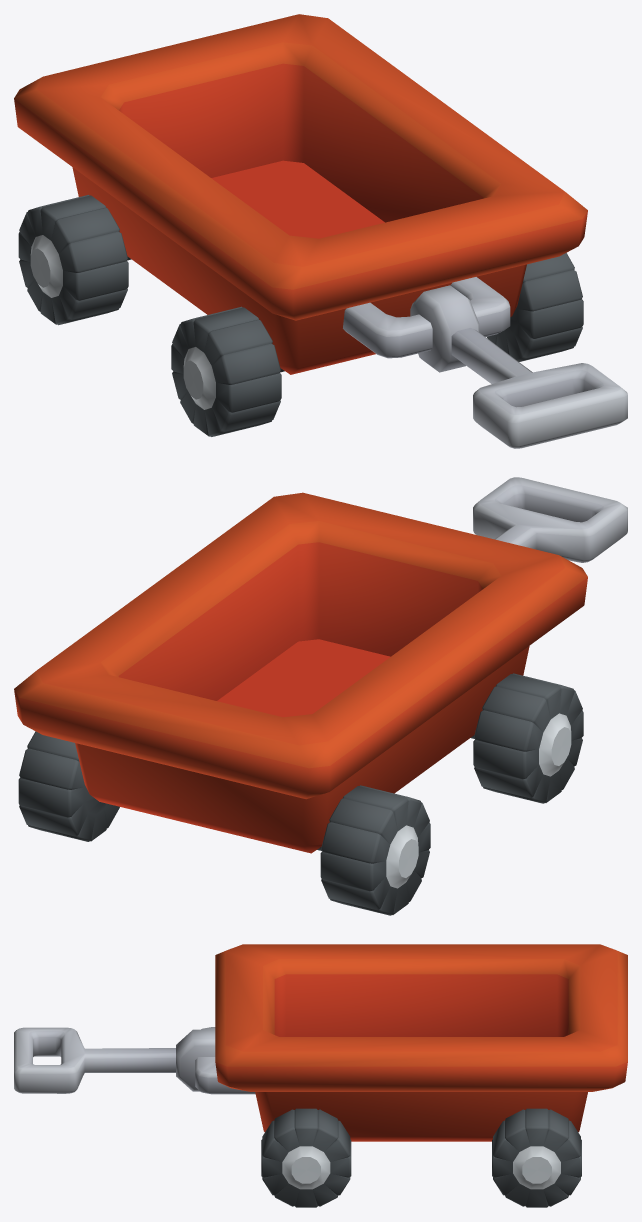
The model's file is cart.glb.
The picture shows the model from 3 angles, top to bottom: view 1: azimuth 30°, elevation 25°; view 2: azimuth 150°, elevation 25°; view 3: azimuth 270°, elevation 25°; orthographic projection. The views are drawn at different scales.
Visible parts, largest first — view 1: cart, cart_wheels_front, cart_handle, cart_wheels_back; view 2: cart, cart_wheels_back, cart_wheels_front, cart_handle; view 3: cart, cart_handle, cart_wheels_front, cart_wheels_back.
Boxes of the visible parts, <box> form: cart: <box>14,14,587,374</box>; cart_wheels_front: <box>171,253,583,436</box>; cart_handle: <box>410,285,627,448</box>; cart_wheels_back: <box>18,194,131,325</box>; cart: <box>14,492,587,853</box>; cart_wheels_back: <box>18,731,430,915</box>; cart_wheels_front: <box>471,673,583,803</box>; cart_handle: <box>473,477,627,562</box>; cart: <box>195,944,627,1141</box>; cart_handle: <box>14,1027,215,1093</box>; cart_wheels_front: <box>261,1108,351,1207</box>; cart_wheels_back: <box>492,1108,581,1207</box>.
Size of the model in its own units: 1.39 by 0.6942 by 2.66.
1 material, 1 textured.
